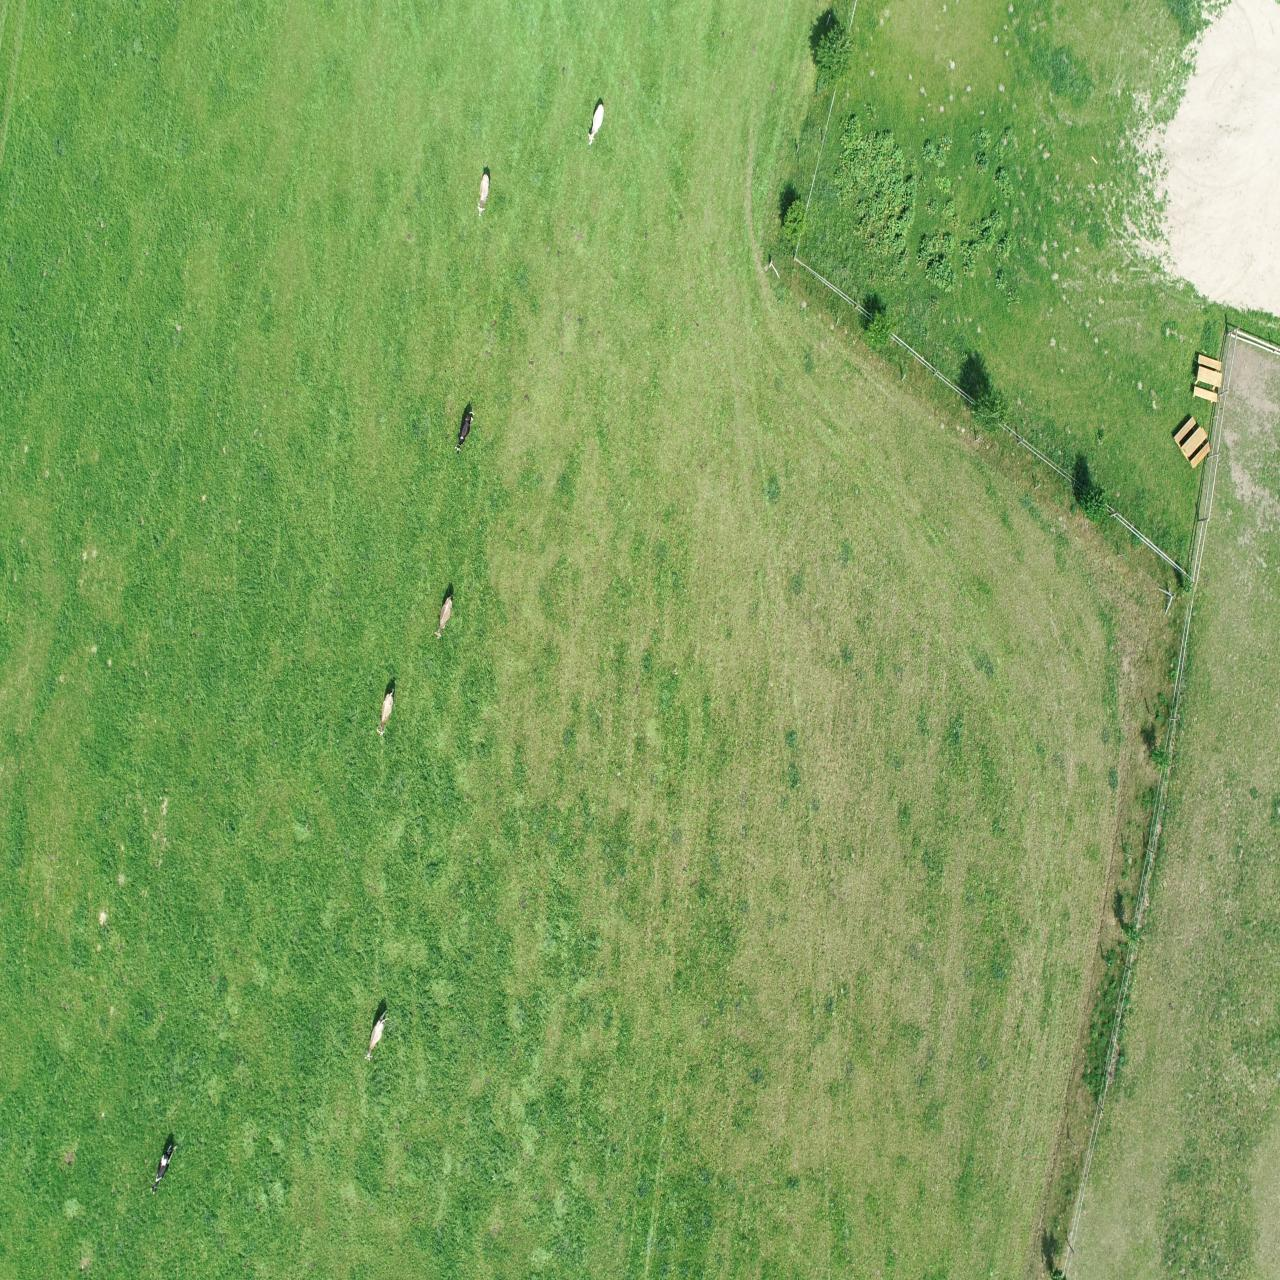cow: (148, 1138, 183, 1199), (363, 1007, 392, 1067), (373, 685, 399, 741), (433, 591, 455, 646), (452, 409, 476, 459), (474, 172, 492, 223), (585, 103, 605, 149)
